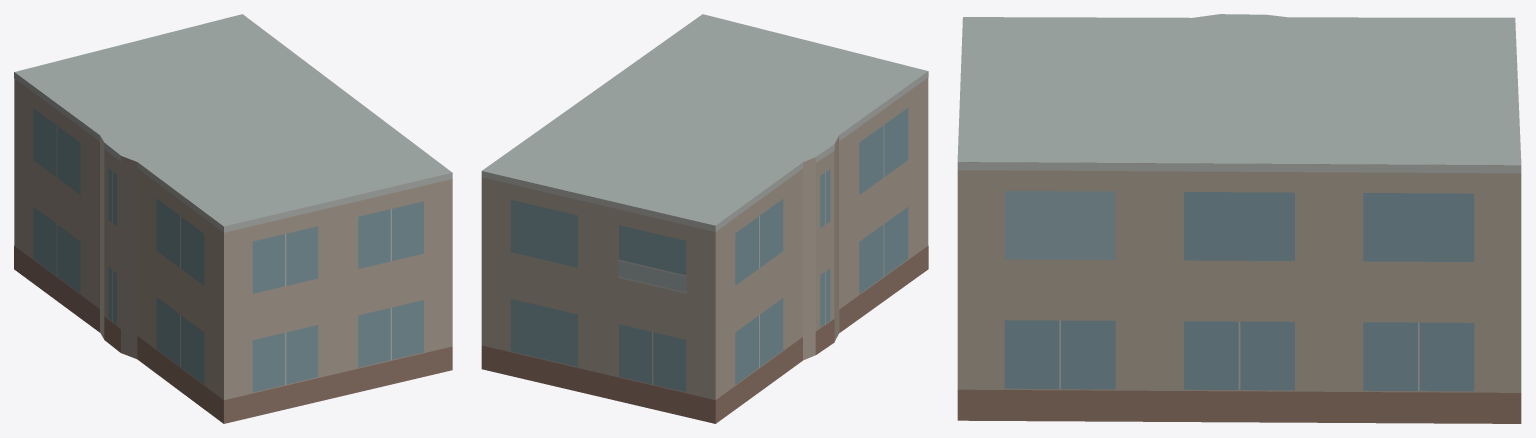
Rendered from survey-upis-32932837.glb.
3 renders of one model, left to right at view 1: azimuth 30°, elevation 25°; view 2: azimuth 150°, elevation 25°; view 3: azimuth 270°, elevation 25°, orthographic. The views are drawn at different scales.
Visible parts, largest first — view 1: survey-upis-32932837.tmp; view 2: survey-upis-32932837.tmp; view 3: survey-upis-32932837.tmp.
Boxes of the visible parts, x1=… form: survey-upis-32932837.tmp: x1=14, y1=14, x2=452, y2=423; survey-upis-32932837.tmp: x1=481, y1=14, x2=928, y2=423; survey-upis-32932837.tmp: x1=957, y1=14, x2=1521, y2=423.
Size of the model in its own units: 9.66 by 7.7 by 15.23.
